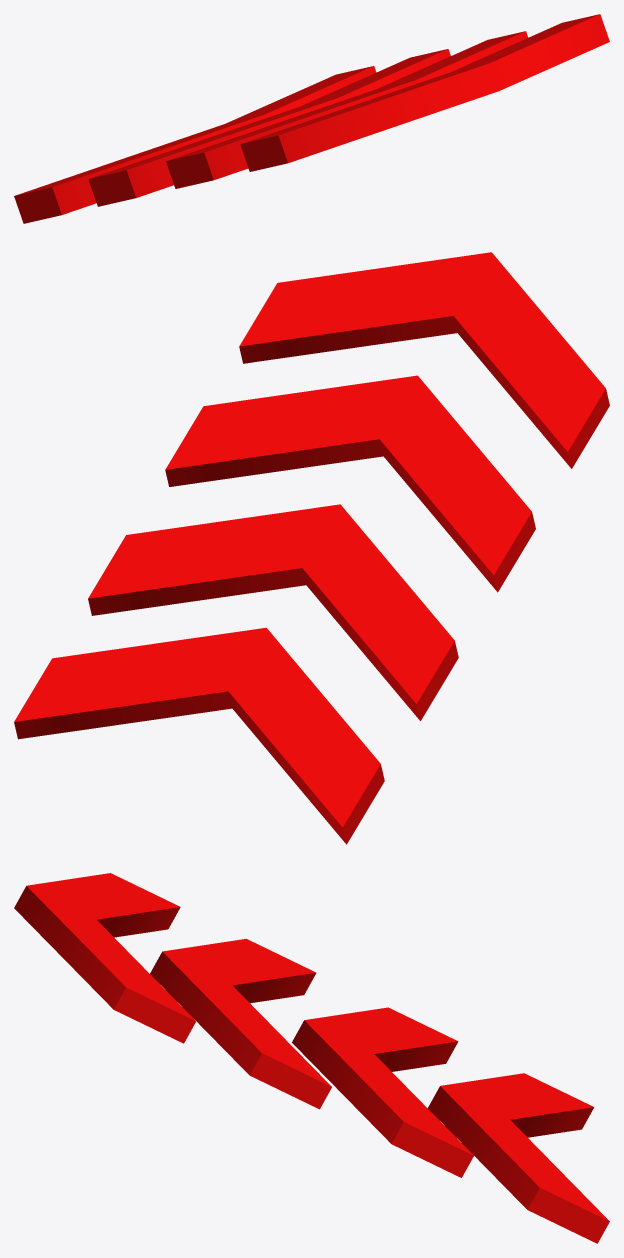
The model's file is item_speeddown.fbx.
3 views of the same model, one above another, from view 1: azimuth 30°, elevation 25°; view 2: azimuth 150°, elevation 25°; view 3: azimuth 270°, elevation 25° (orthographic). The views are drawn at different scales.
Parts seen in each view (by area): view 1: item_speedup; view 2: item_speedup; view 3: item_speedup.
Part boxes in pixels (x1=…): item_speedup: x1=14, y1=14, x2=609, y2=223; item_speedup: x1=14, y1=252, x2=609, y2=844; item_speedup: x1=14, y1=873, x2=609, y2=1243.
Size of the model in its own units: 2.88 by 2.84 by 4.9.
